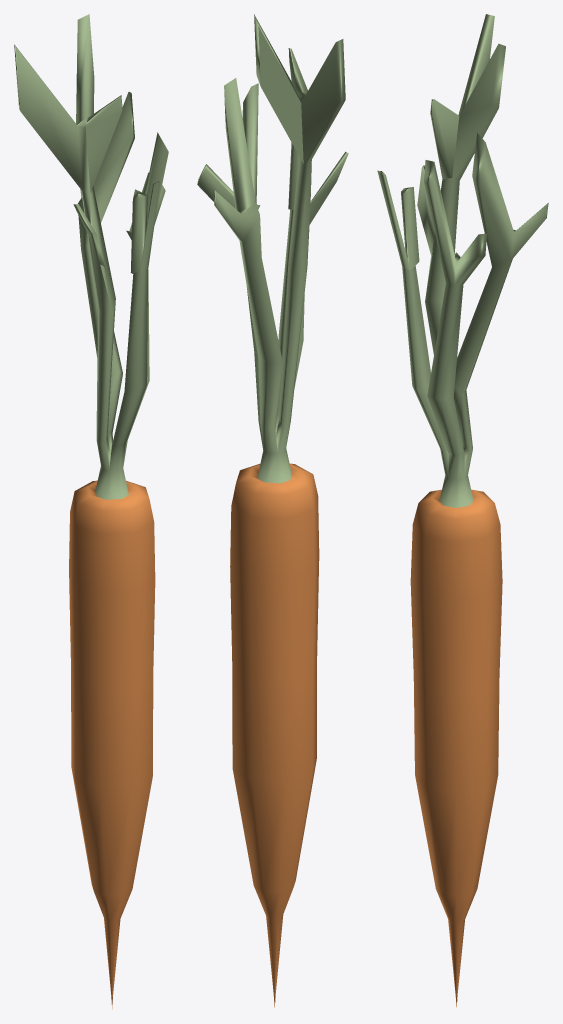
The model's file is carrot_prototype.fbx.
3 renders of one model, left to right at view 1: azimuth 30°, elevation 25°; view 2: azimuth 150°, elevation 25°; view 3: azimuth 270°, elevation 25°, orthographic. The views are drawn at different scales.
Visible parts, largest first — view 1: carrot1; view 2: carrot1; view 3: carrot1.
Part boxes in pixels (<box>): carrot1: <box>14,14,168,1009</box>; carrot1: <box>197,14,348,1007</box>; carrot1: <box>377,14,548,1007</box>.
Size of the model in its own units: 3.97 by 25.59 by 4.11.
